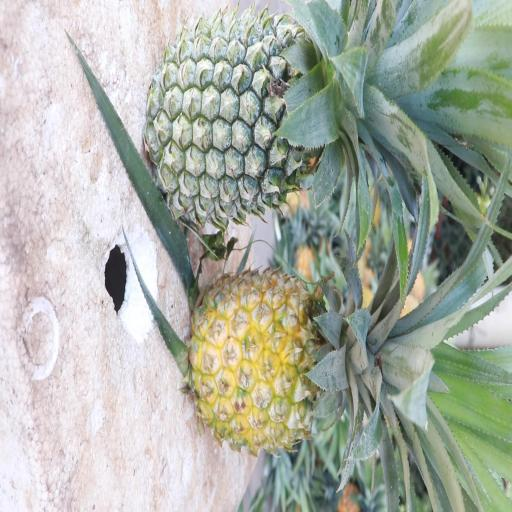Pineapple - v8 v1: (192, 246, 490, 496)
